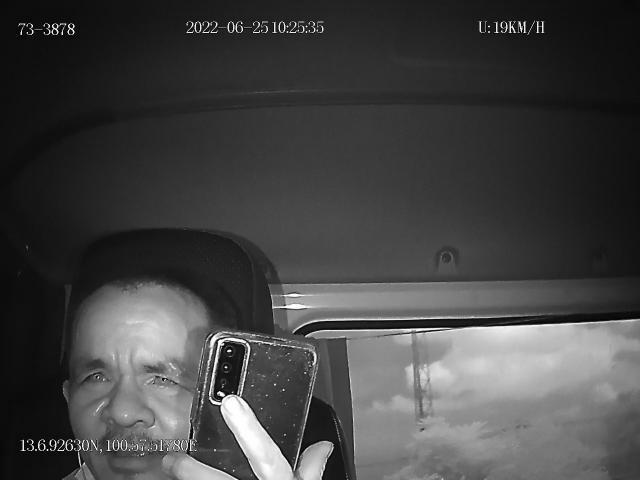PhoneUse: (186, 330, 318, 480)
SafeDriving: (139, 362, 186, 396), (74, 359, 118, 395)
